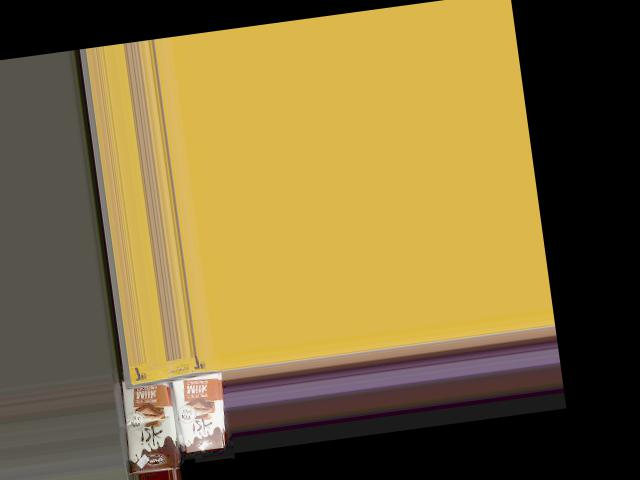chocolate: (171, 362, 235, 455)
